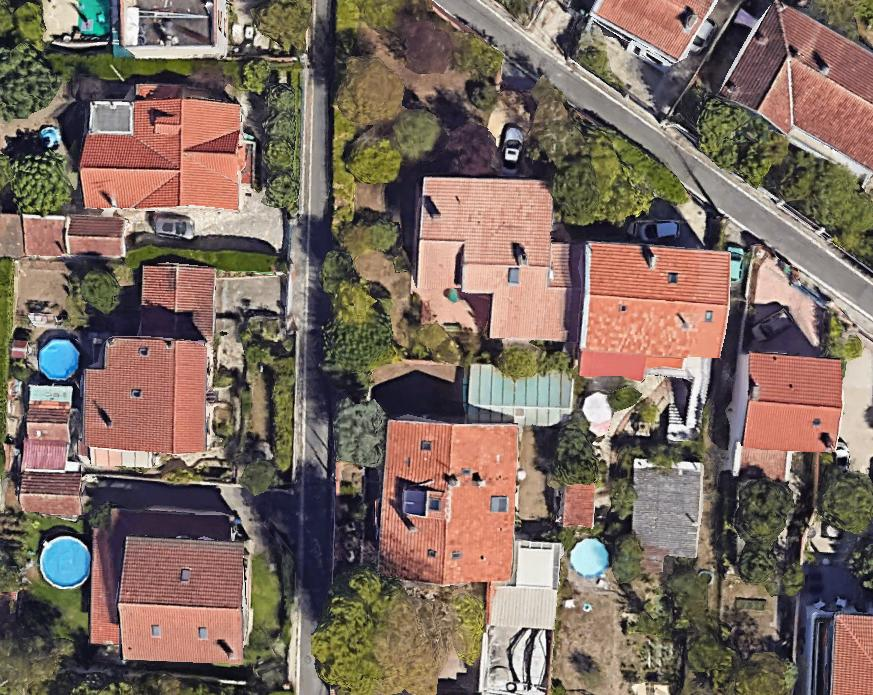maison: (76, 257, 218, 474), (714, 0, 873, 181), (412, 178, 583, 340), (92, 509, 248, 662), (379, 421, 516, 586), (574, 242, 732, 385), (78, 97, 242, 212), (736, 353, 846, 484), (591, 0, 717, 68), (831, 614, 872, 694)
